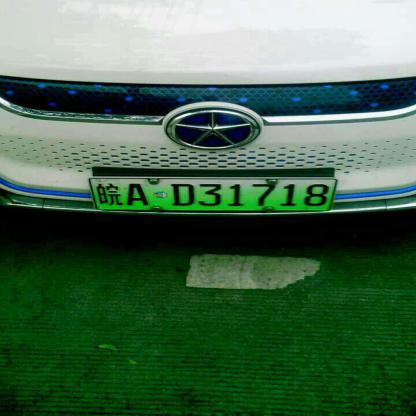lp: (88, 177, 338, 211)
